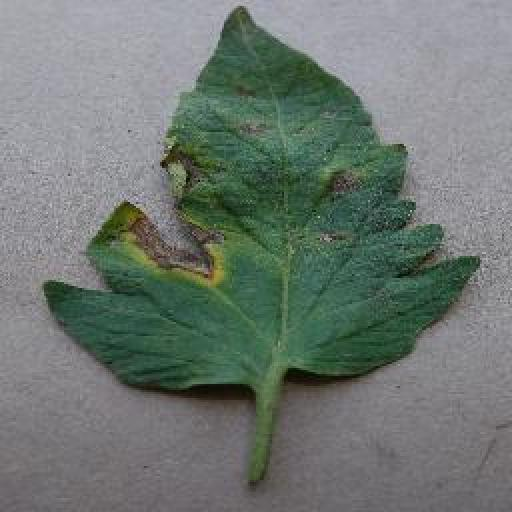disease_tomato: (44, 5, 482, 391)
